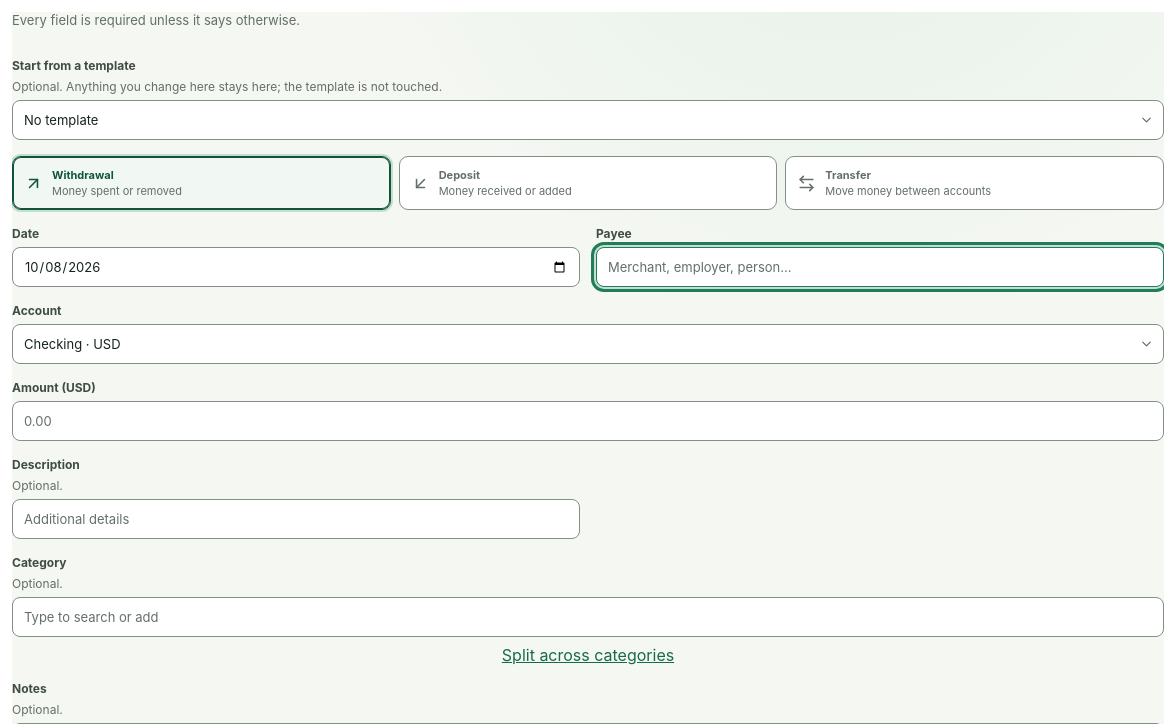
Test: starting a transaction from a template › replaces the previous choice instead of merging with it
Select "Rent" in the dropdown labelled "Start from a template": [588, 120] box [12,100,1164,140]
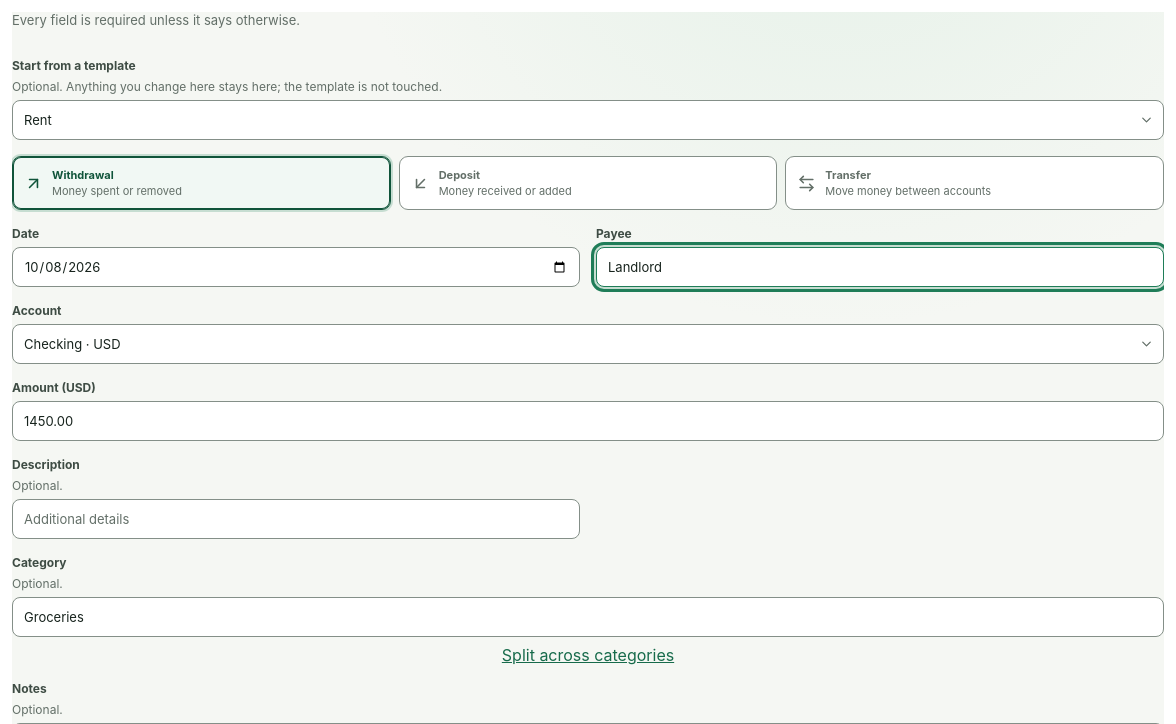
Now the field labelled "Amount (USD)" holds "1450.00", box [12,401,1164,441]
Select "Coffee" in the dropdown labelled "Start from a template": [588, 120] box [12,100,1164,140]
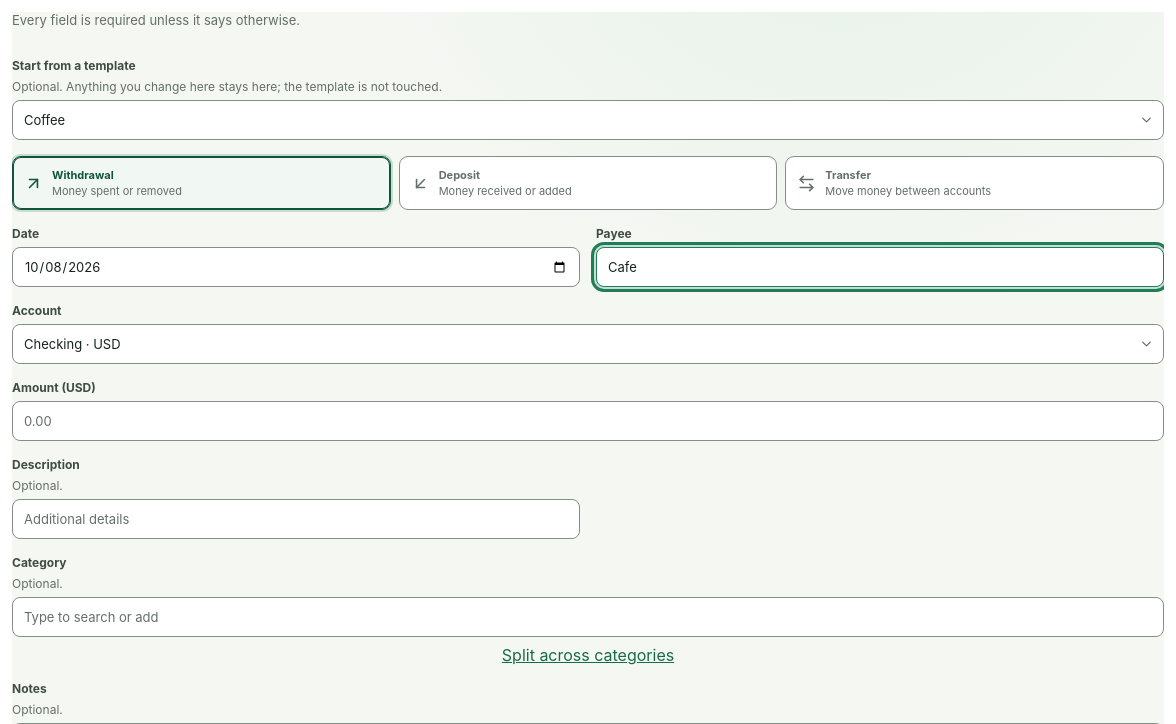
Now the field labelled "Payee" holds "Cafe", box [596,247,1164,287]
Now the field labelled "Amount (USD)" is empty, box [12,401,1164,441]
Now the field named "Category" is empty, box [12,597,1164,637]
